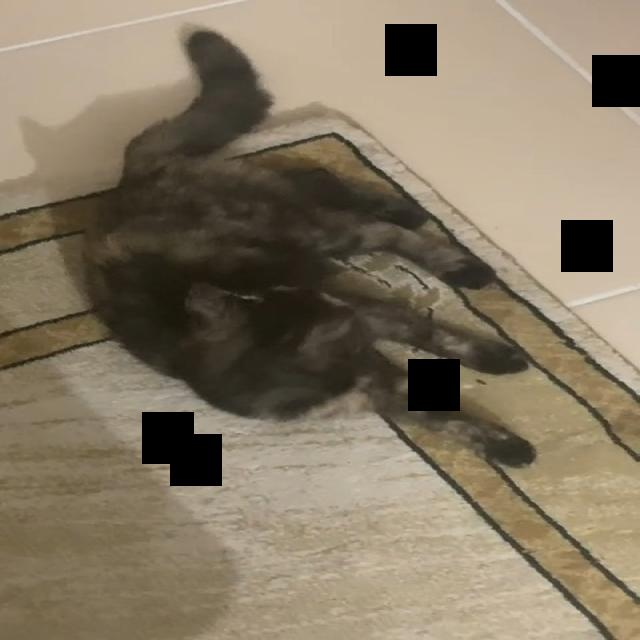authorized: (79, 21, 538, 470)
